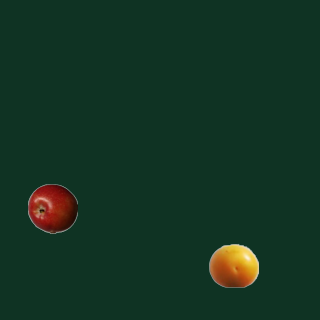Apple Braeburn: (27, 183, 77, 233)
Cherry Wax Yellow: (208, 240, 258, 290)
